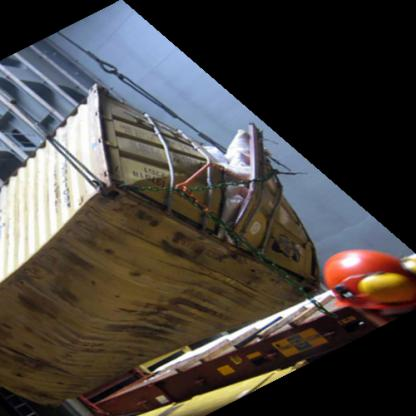Damage: (216, 124, 288, 247)
